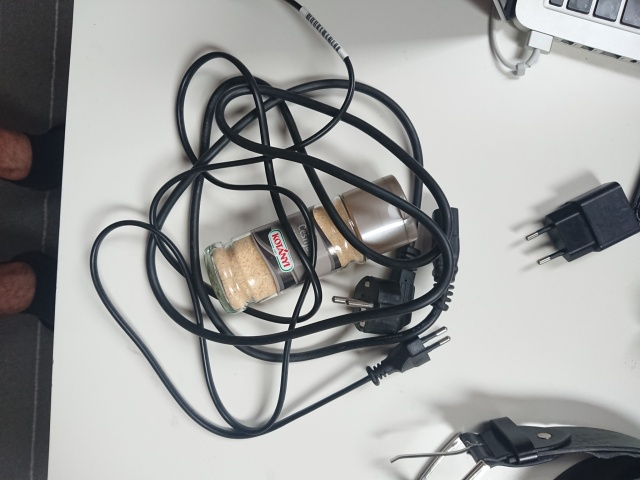Kotanyi Garlic Granules 70g: (199, 172, 422, 317)
